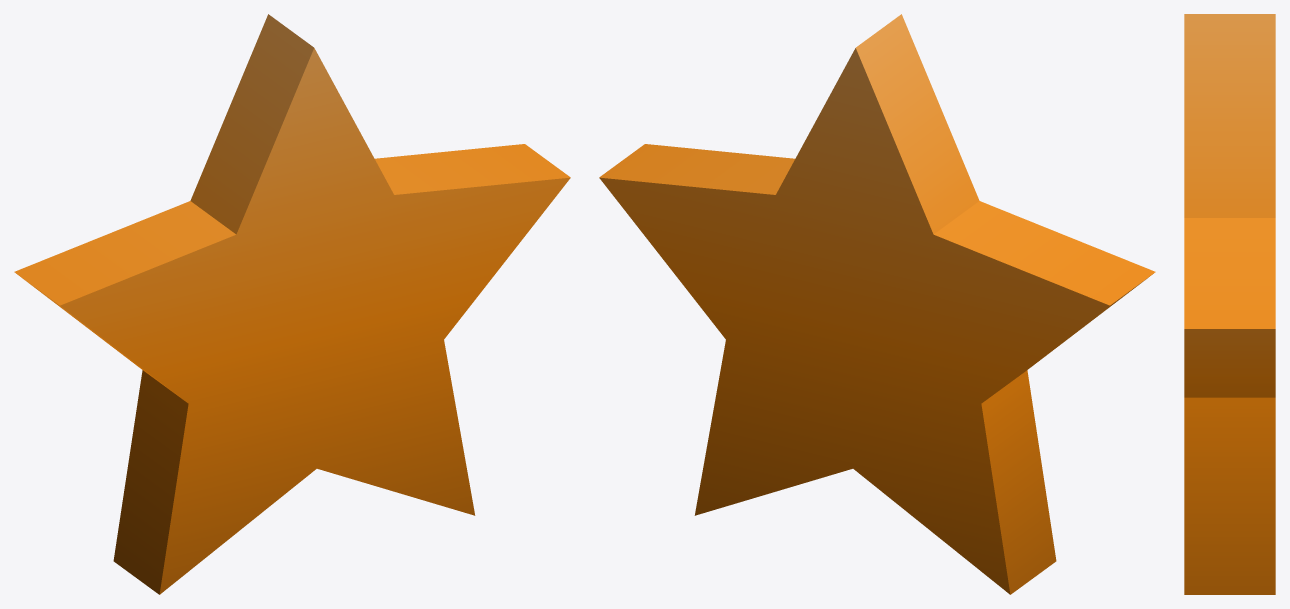
Rendered from Collectable_Star_01.fbx.
3 renders of one model, left to right at view 1: azimuth 30°, elevation 25°; view 2: azimuth 150°, elevation 25°; view 3: azimuth 270°, elevation 25°, orthographic.
Visible parts, largest first — view 1: Collectable_Star_01; view 2: Collectable_Star_01; view 3: Collectable_Star_01.
Part boxes in pixels (x1=…): Collectable_Star_01: x1=14, y1=14, x2=570, y2=594; Collectable_Star_01: x1=599, y1=14, x2=1155, y2=594; Collectable_Star_01: x1=1184, y1=14, x2=1275, y2=594.
Size of the model in its own units: 75.18 by 71.65 by 11.73.
